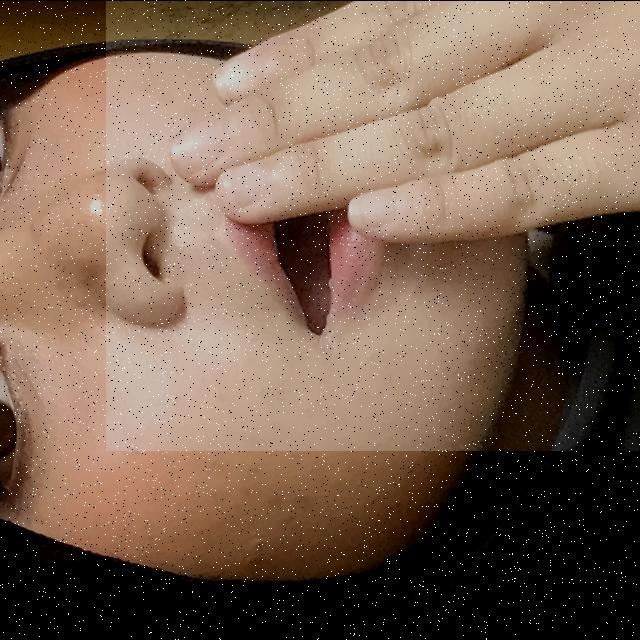ngantuk: (106, 0, 640, 450)
